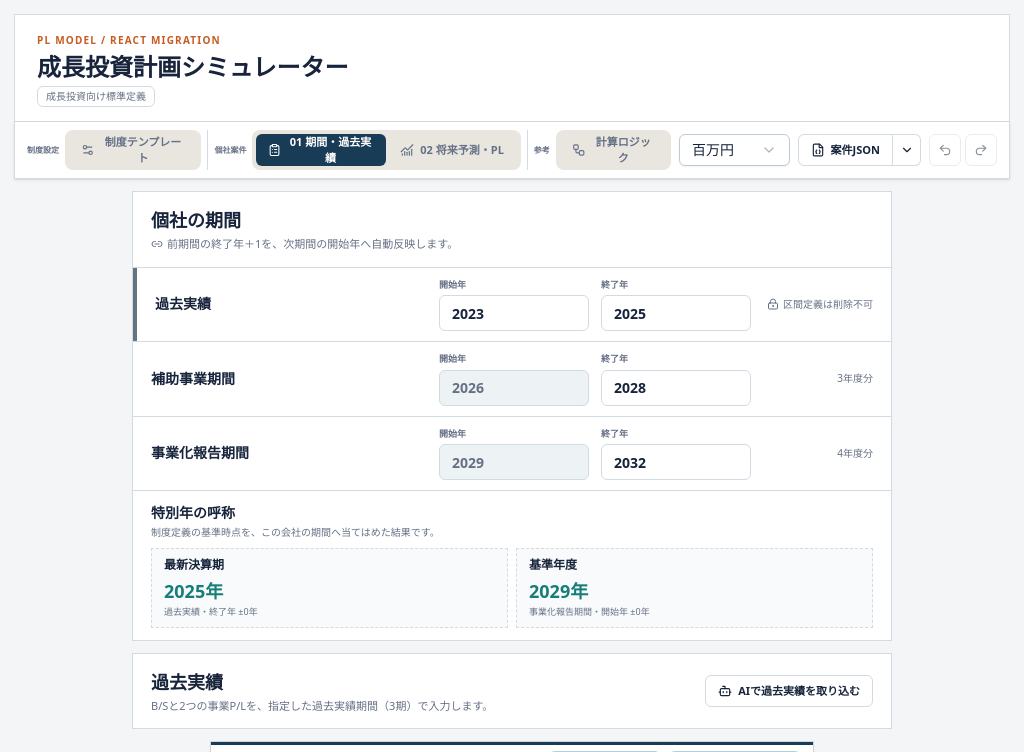
Test: 案件JSONを読み込む前後の過去実績 › ファイルを選択せず同梱サンプルデータを読み込める
Step 1. Click the button named "案件JSONメニュー" → [907, 150], box [893,134,921,166]
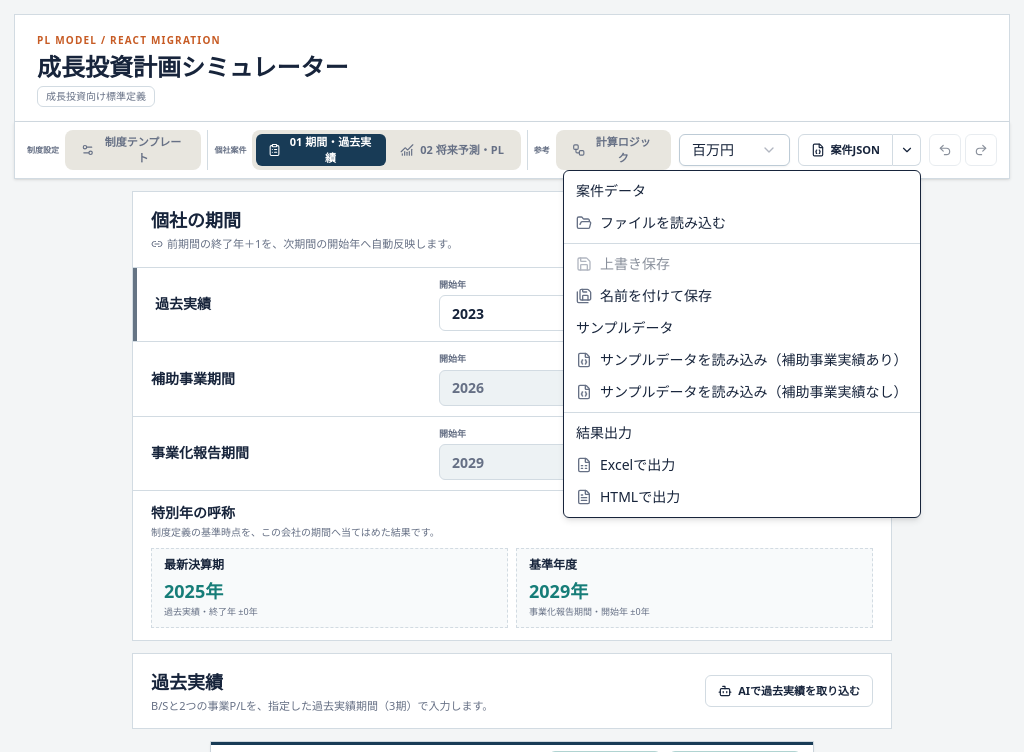
Step 2. Click the menu item "サンプルデータを読み込み（補助事業実績あり）" → [742, 360], box [576,350,908,369]
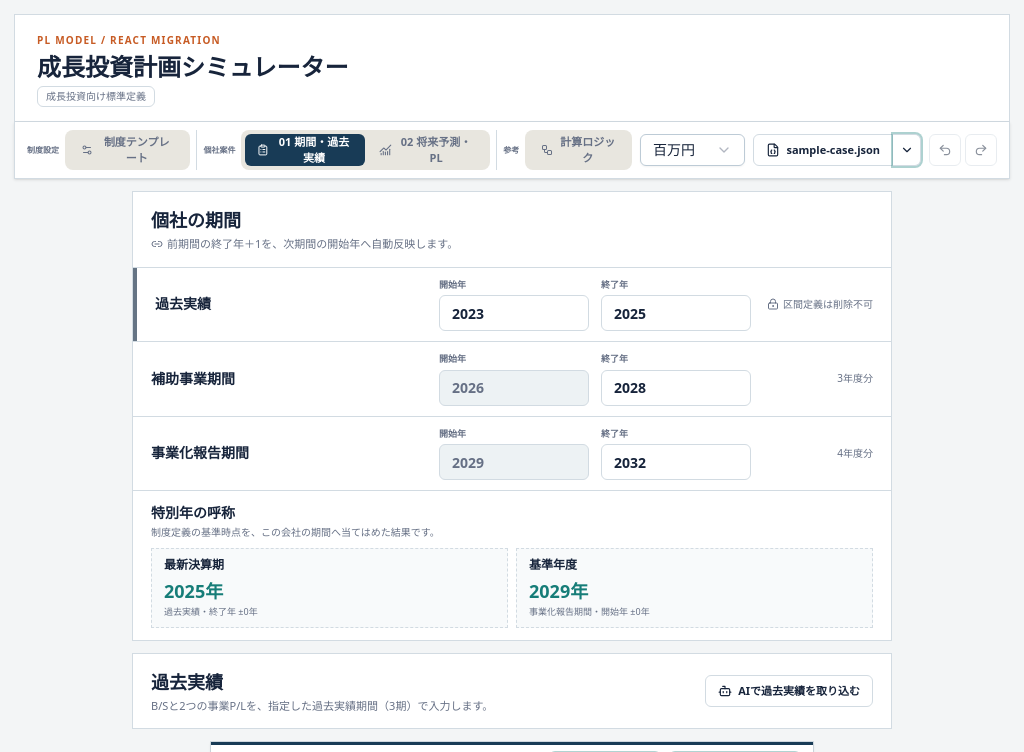
Expected: the element named "現在の案件ファイル" reads "sample-case.json", [786,142,880,157]
